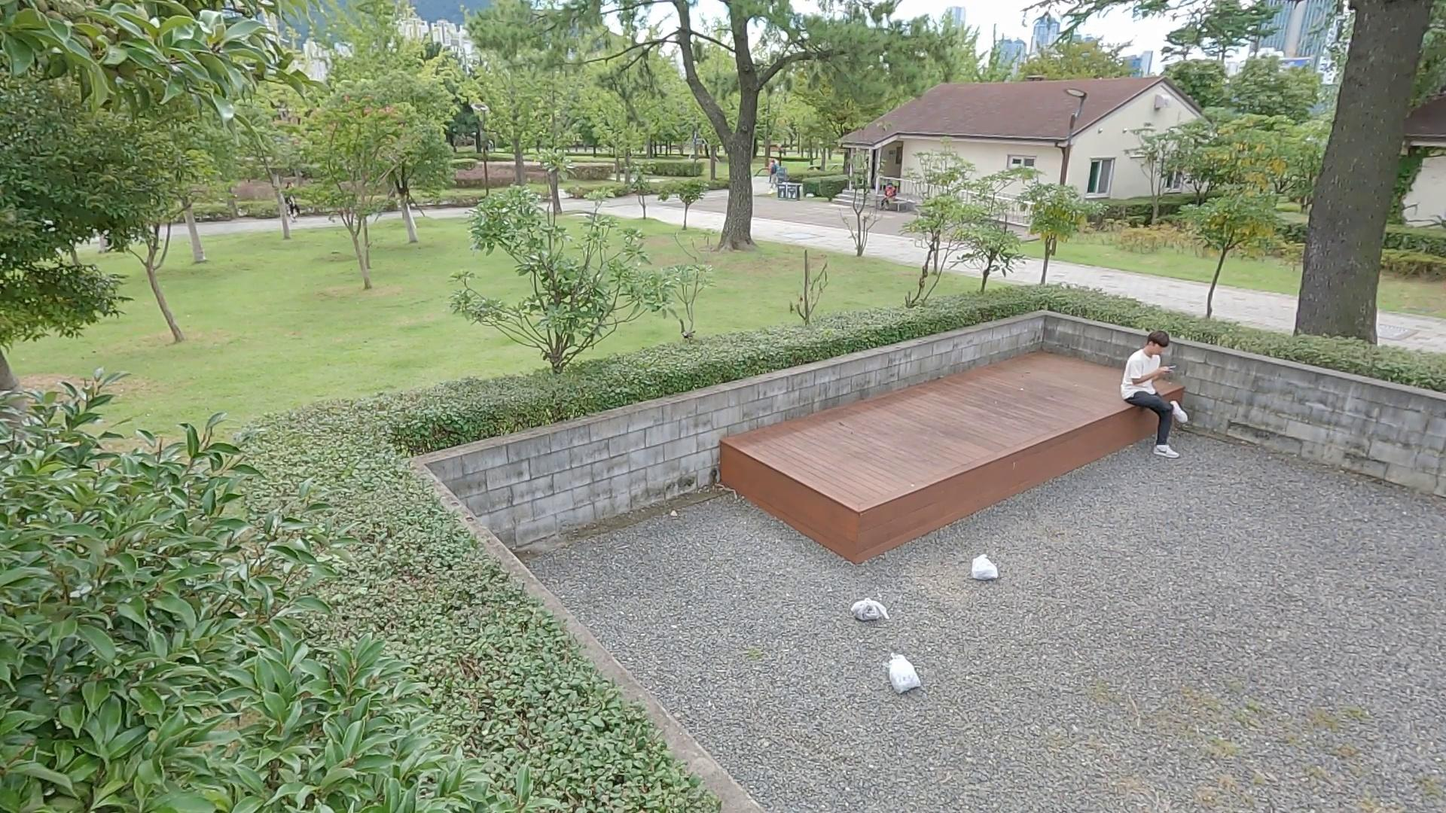person: (1120, 325, 1196, 469)
trash: (883, 645, 924, 696), (846, 587, 888, 630), (969, 547, 1005, 583)
